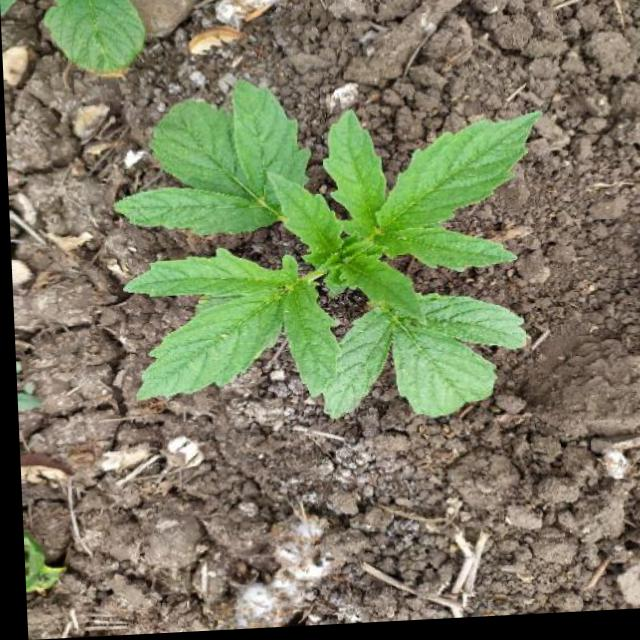crop: (80, 69, 561, 453)
